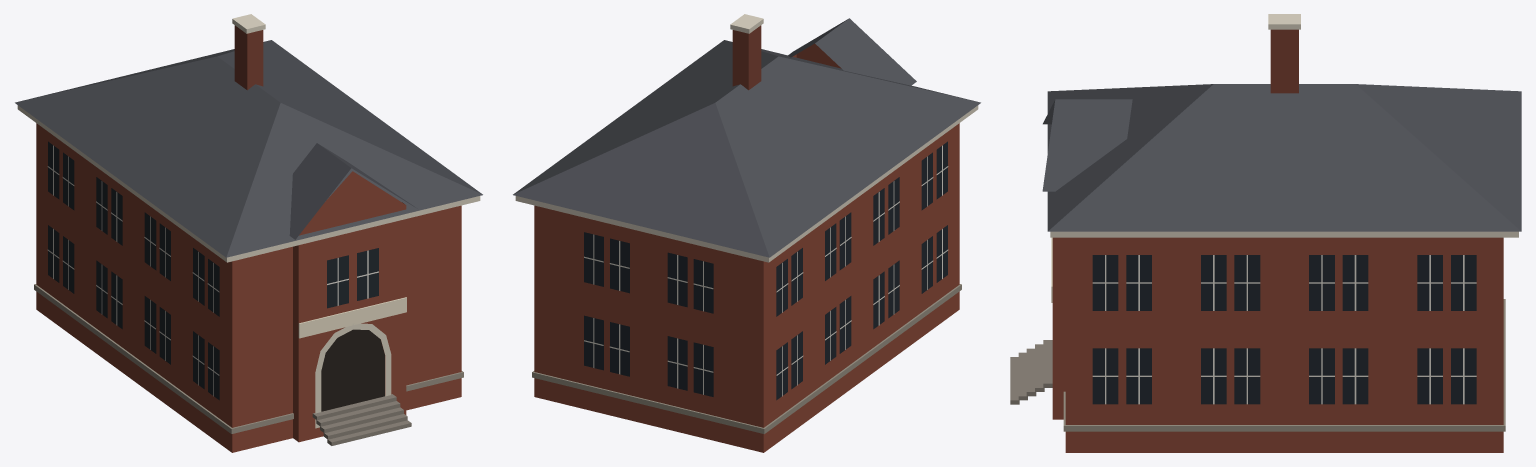
Rendered from olgc-parochial-school-1913.glb.
3 views of the same model, side by side, from view 1: azimuth 30°, elevation 25°; view 2: azimuth 150°, elevation 25°; view 3: azimuth 270°, elevation 25° (orthographic). The views are drawn at different scales.
Parts seen in each view (by area): view 1: olgc_brick, olgc_slate, olgc_glass, olgc_trim, olgc_dark, olgc_base, olgc_stone, olgc_cream, olgc_brick2, olgc_sash; view 2: olgc_brick, olgc_slate, olgc_glass, olgc_stone, olgc_trim, olgc_sash, olgc_brick2; view 3: olgc_brick, olgc_slate, olgc_glass, olgc_trim, olgc_stone, olgc_sash, olgc_base, olgc_brick2.
Boxes of the visible parts, x1=… form: olgc_brick: x1=36, y1=123, x2=461, y2=452; olgc_slate: x1=15, y1=40, x2=482, y2=257; olgc_glass: x1=48, y1=141, x2=378, y2=400; olgc_trim: x1=17, y1=14, x2=480, y2=428; olgc_dark: x1=321, y1=329, x2=384, y2=411; olgc_base: x1=312, y1=394, x2=411, y2=445; olgc_stone: x1=34, y1=284, x2=463, y2=433; olgc_cream: x1=298, y1=297, x2=406, y2=338; olgc_brick2: x1=234, y1=25, x2=263, y2=90; olgc_sash: x1=47, y1=145, x2=378, y2=396; olgc_brick: x1=534, y1=43, x2=959, y2=452; olgc_slate: x1=513, y1=18, x2=980, y2=257; olgc_glass: x1=584, y1=141, x2=947, y2=400; olgc_stone: x1=532, y1=284, x2=961, y2=433; olgc_trim: x1=515, y1=14, x2=978, y2=262; olgc_sash: x1=584, y1=145, x2=948, y2=396; olgc_brick2: x1=732, y1=25, x2=761, y2=90; olgc_brick: x1=1052, y1=237, x2=1503, y2=452; olgc_slate: x1=1042, y1=84, x2=1521, y2=231; olgc_glass: x1=1092, y1=255, x2=1476, y2=404; olgc_trim: x1=1050, y1=14, x2=1518, y2=237; olgc_stone: x1=1063, y1=299, x2=1505, y2=431; olgc_sash: x1=1092, y1=255, x2=1476, y2=404; olgc_base: x1=1010, y1=340, x2=1052, y2=404; olgc_brick2: x1=1270, y1=29, x2=1298, y2=93.
Bounding box in the file's own units: 12.9 × 15.89 × 19.85.
